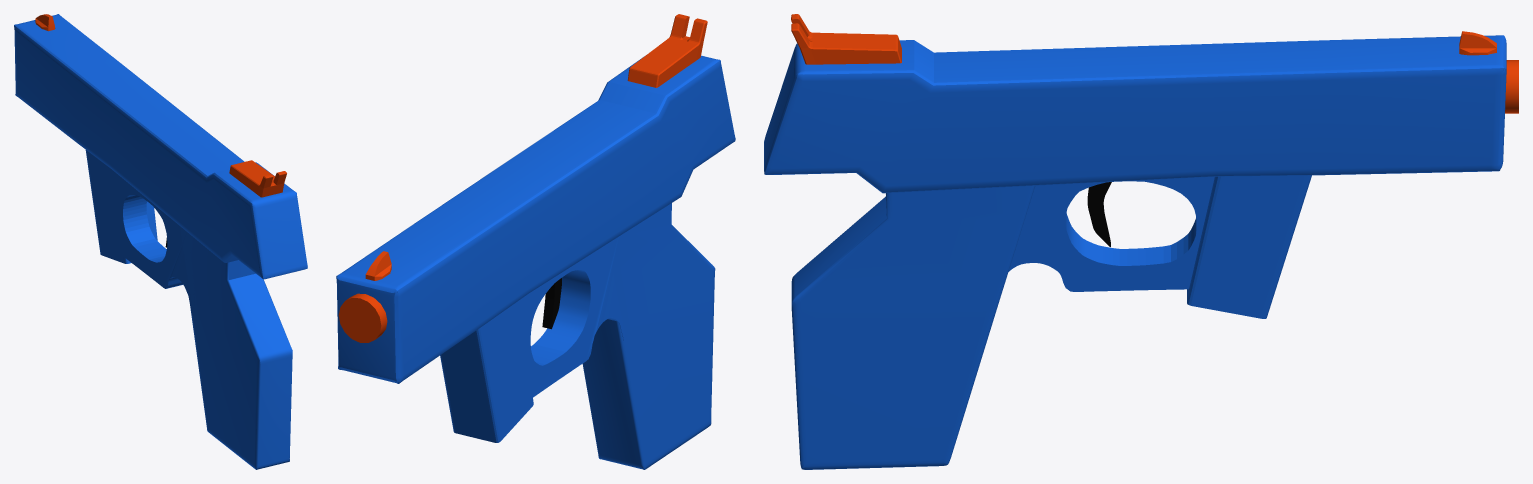
File: JoyGunBlock1.fbx
The picture shows the model from 3 angles, left to right: view 1: azimuth 30°, elevation 25°; view 2: azimuth 150°, elevation 25°; view 3: azimuth 270°, elevation 25°; orthographic projection. The views are drawn at different scales.
Parts seen in each view (by area): view 1: Cube.001, Cube, Plane, Cube.002, Cube.005; view 2: Cube.001, Cube, Cube.002, Plane, Cube.005, Cylinder, Cube.003, Cube.004; view 3: Cube.001, Cube, Cube.002, Plane, Cube.005, Cube.003, Cube.004.
Part boxes in pixels (bbox=[...]): Cube.001: bbox=[14, 14, 307, 279]; Cube: bbox=[180, 226, 292, 469]; Plane: bbox=[111, 169, 194, 316]; Cube.002: bbox=[85, 150, 157, 263]; Cube.005: bbox=[229, 160, 286, 197]; Cube.001: bbox=[336, 55, 735, 383]; Cube: bbox=[582, 203, 715, 469]; Cube.002: bbox=[440, 302, 533, 442]; Plane: bbox=[514, 237, 628, 398]; Cube.005: bbox=[627, 14, 707, 87]; Cylinder: bbox=[338, 293, 387, 342]; Cube.003: bbox=[542, 278, 561, 329]; Cube.004: bbox=[365, 251, 391, 280]; Cube.001: bbox=[764, 35, 1506, 193]; Cube: bbox=[791, 185, 1035, 469]; Cube.002: bbox=[1187, 175, 1311, 318]; Plane: bbox=[1008, 176, 1214, 291]; Cube.005: bbox=[791, 14, 901, 64]; Cube.003: bbox=[1087, 182, 1111, 246]; Cube.004: bbox=[1459, 31, 1496, 55].
Size of the model in its own units: 8.4 by 51.22 by 80.15.
